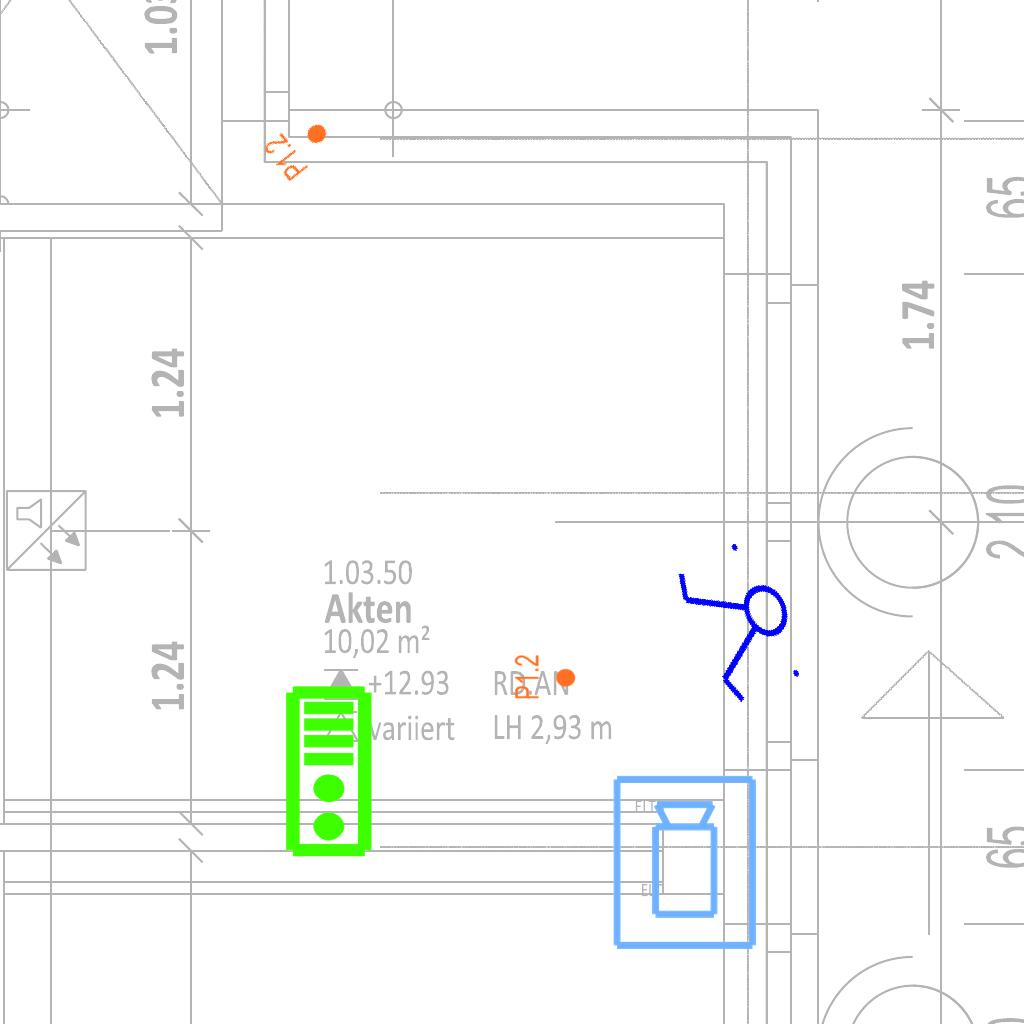Downlight_LED_Einbauleuchten_Flur: (260, 108, 340, 184), (513, 654, 577, 700)
Gegensprechanlage_mit_Video: (283, 684, 378, 860)
KFO_Kamera_mit_Festobjektiv: (609, 772, 763, 954)
Serienschalter: (663, 526, 823, 720)
